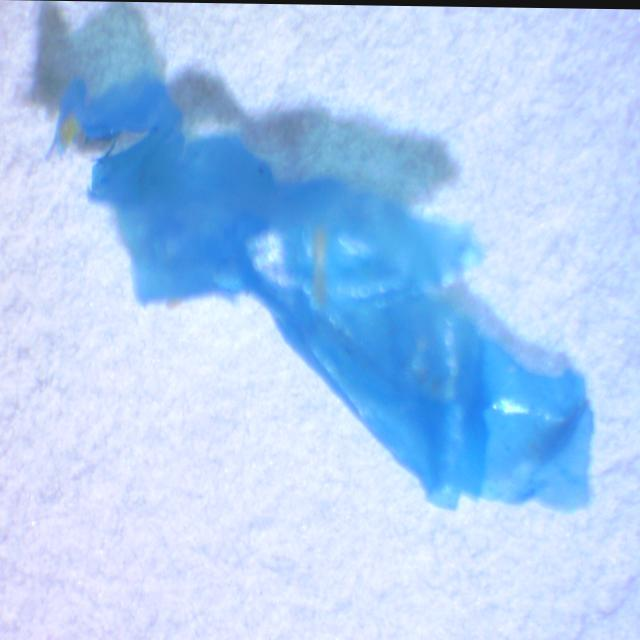microplastic: (25, 89, 598, 508)
